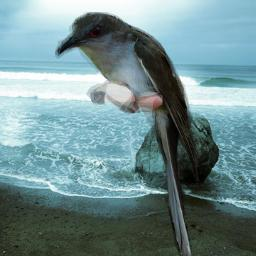Cuckoo: (55, 12, 204, 256)
